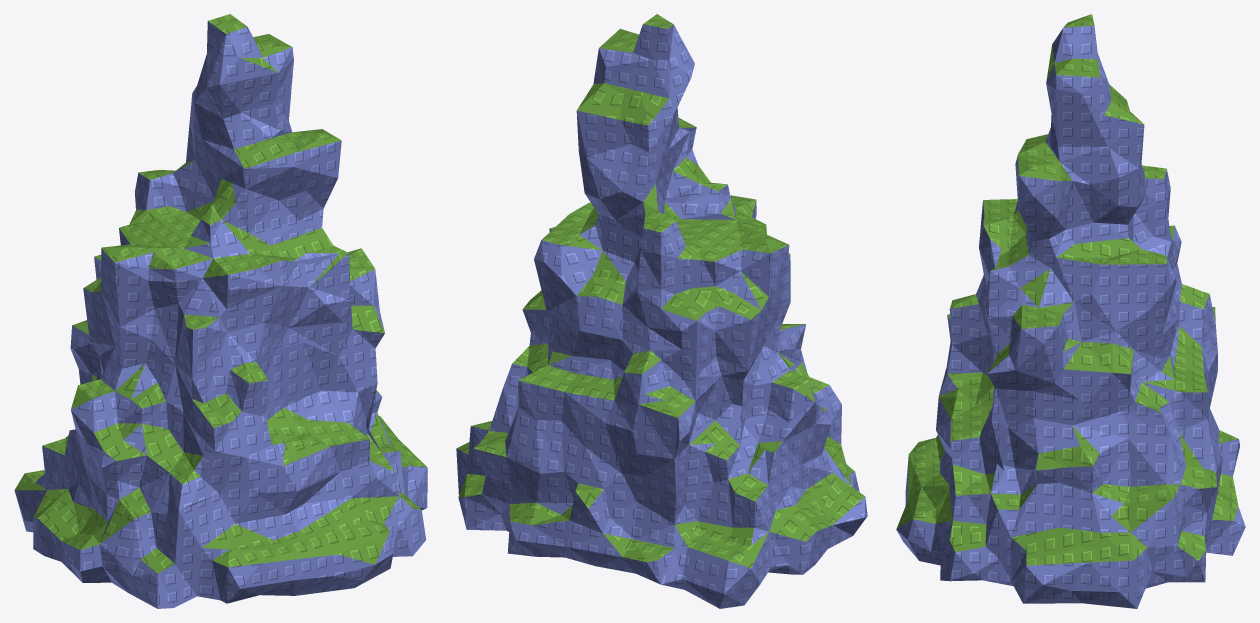
File: RockOutcropBig.glb
The picture shows the model from 3 angles, left to right: view 1: azimuth 30°, elevation 25°; view 2: azimuth 150°, elevation 25°; view 3: azimuth 270°, elevation 25°; orthographic projection.
Parts seen in each view (by area): view 1: RockOutcropBig_Rock, RockOutcropBig_Top; view 2: RockOutcropBig_Rock, RockOutcropBig_Top; view 3: RockOutcropBig_Rock, RockOutcropBig_Top.
Boxes of the visible parts, left/top/right/bottom form: RockOutcropBig_Rock: left=14, top=21, right=427, bottom=608; RockOutcropBig_Top: left=15, top=14, right=426, bottom=573; RockOutcropBig_Rock: left=456, top=24, right=867, bottom=608; RockOutcropBig_Top: left=456, top=14, right=864, bottom=568; RockOutcropBig_Rock: left=896, top=25, right=1245, bottom=608; RockOutcropBig_Top: left=896, top=14, right=1238, bottom=565.
Bounding box in the file's own units: 22.76 × 30.55 × 18.83.
Materials: 2 (2 with a texture image).
